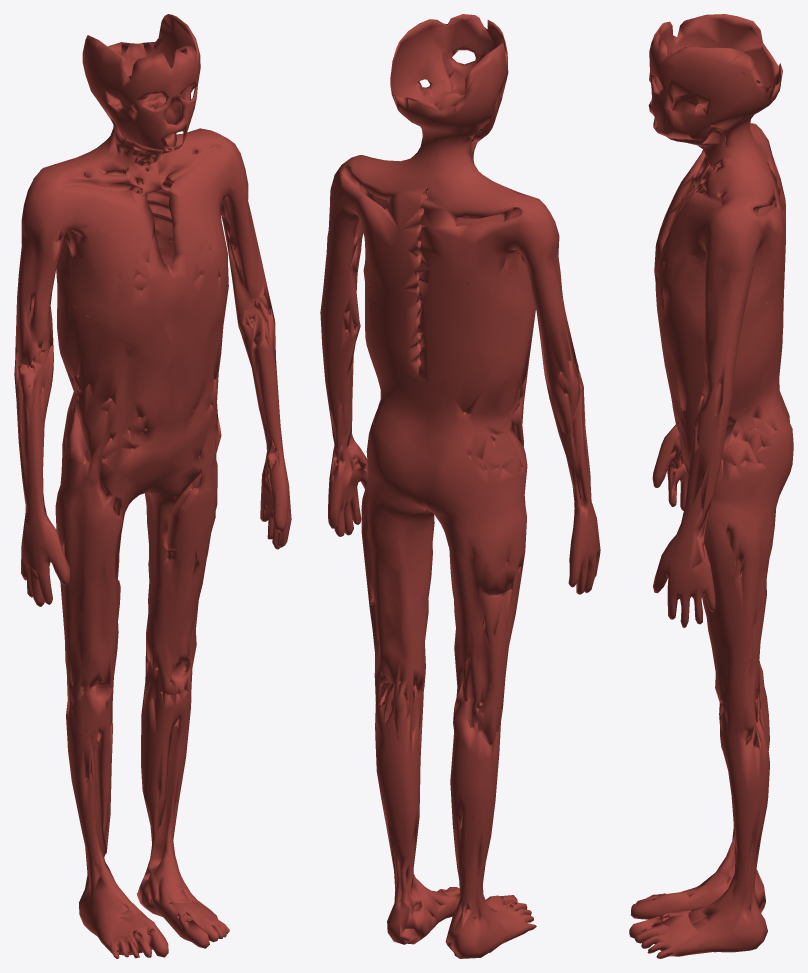
The model's file is pediatric_child_10y_male.muscular.LOD2.glb.
3 renders of one model, left to right at view 1: azimuth 30°, elevation 25°; view 2: azimuth 150°, elevation 25°; view 3: azimuth 270°, elevation 25°, orthographic.
Visible parts, largest first — view 1: PEDIATRIC.CHILD_10Y.MALE.MUSCULAR.MUSCLE; view 2: PEDIATRIC.CHILD_10Y.MALE.MUSCULAR.MUSCLE; view 3: PEDIATRIC.CHILD_10Y.MALE.MUSCULAR.MUSCLE.
Part boxes in pixels (x1,y1,x2,y2): PEDIATRIC.CHILD_10Y.MALE.MUSCULAR.MUSCLE: [14, 14, 291, 958]; PEDIATRIC.CHILD_10Y.MALE.MUSCULAR.MUSCLE: [320, 14, 600, 958]; PEDIATRIC.CHILD_10Y.MALE.MUSCULAR.MUSCLE: [629, 14, 793, 958].
Size of the model in its own units: 0.405 by 1.35 by 0.2229.
